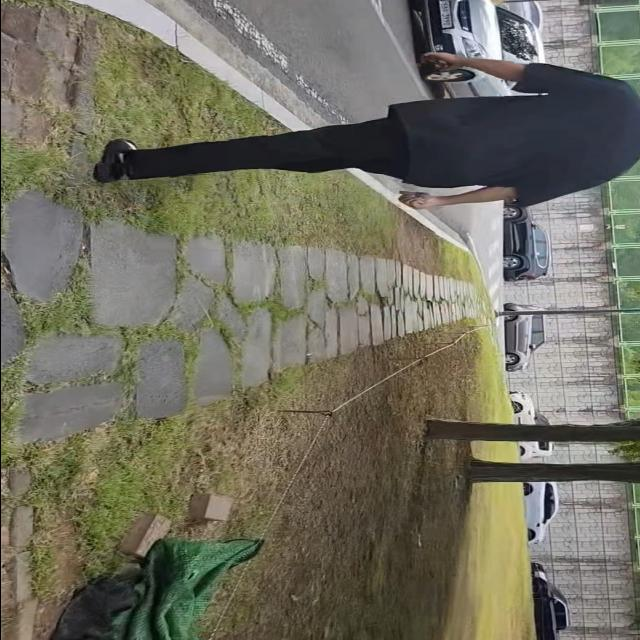obstacle: (78, 43, 640, 217), (410, 0, 564, 97), (509, 388, 566, 557), (493, 295, 556, 377), (495, 197, 555, 283), (104, 502, 181, 564), (172, 488, 249, 523)
sidewalk: (0, 206, 489, 459)
